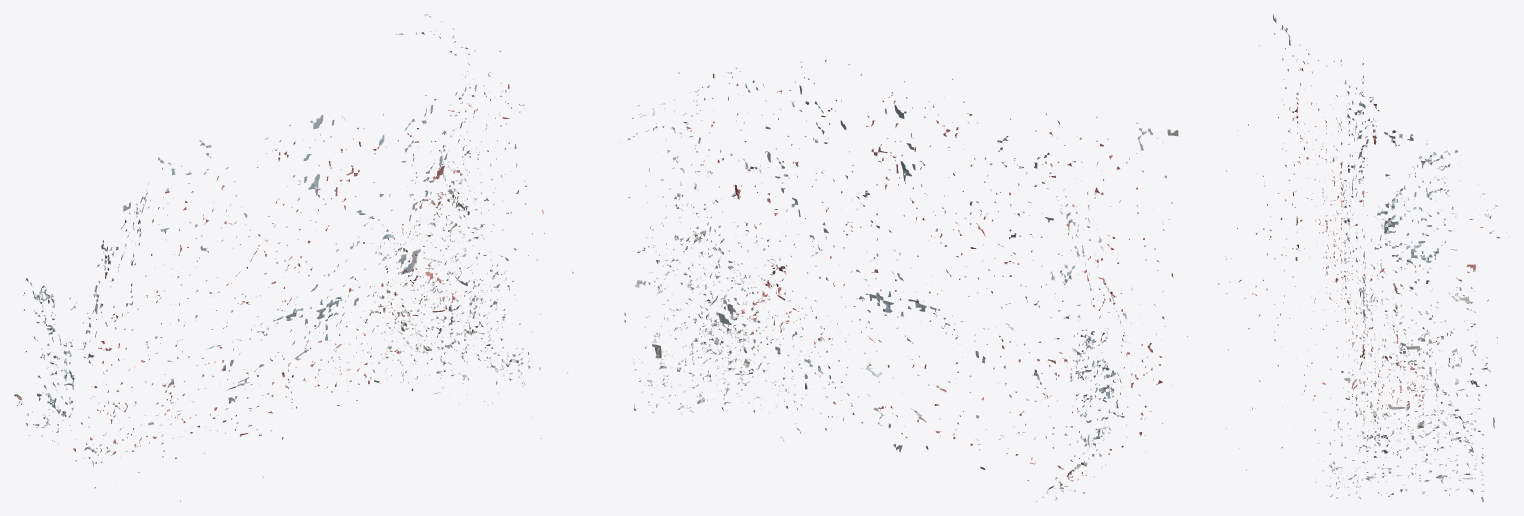
File: R1-보존띠-1__nojudge_ALS_s0__removed.glb
3 renders of one model, left to right at view 1: azimuth 30°, elevation 25°; view 2: azimuth 150°, elevation 25°; view 3: azimuth 270°, elevation 25°, orthographic. The views are drawn at different scales.
Bounding box in the file's own units: 51.46 × 34.45 × 31.6.
